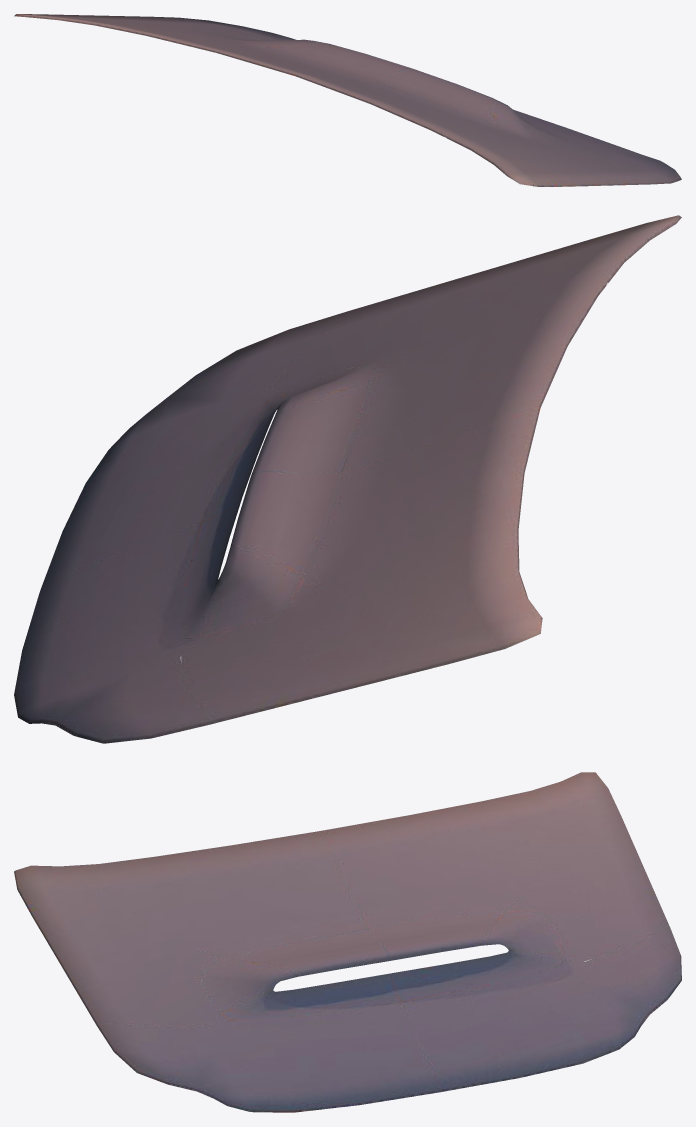
Rendered from hood.glb.
The picture shows the model from 3 angles, top to bottom: view 1: azimuth 30°, elevation 25°; view 2: azimuth 150°, elevation 25°; view 3: azimuth 270°, elevation 25°; orthographic projection. The views are drawn at different scales.
Visible parts, largest first — view 1: hoodmove; view 2: hoodmove; view 3: hoodmove.
Part boxes in pixels (left/top/right/bottom): hoodmove: left=14, top=14, right=681, bottom=186; hoodmove: left=14, top=215, right=681, bottom=743; hoodmove: left=14, top=772, right=681, bottom=1112.
Size of the model in its own units: 0.8902 by 0.2617 by 1.16.
Materials: 1 (1 with a texture image).
